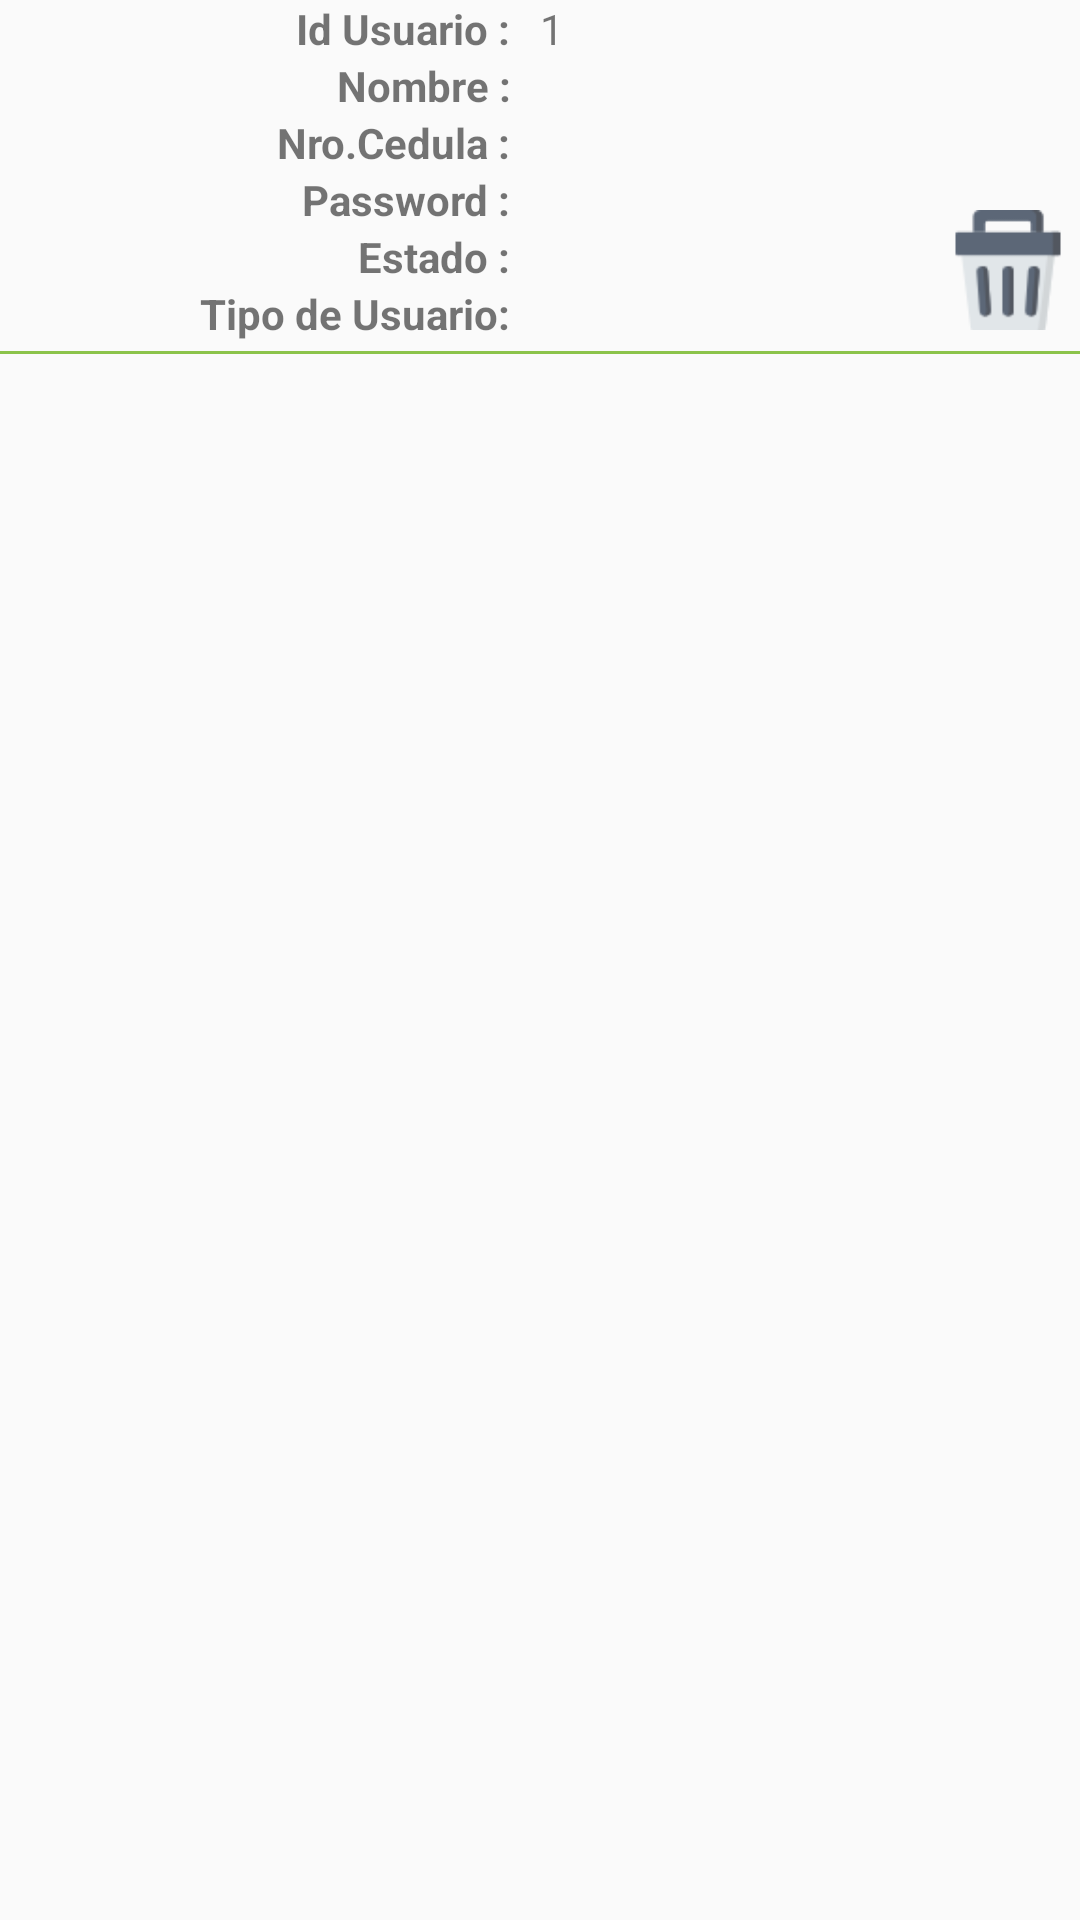

Icons on this 1080px x 1920px Android screen, each with the point to tap as (x=x, y=y):
borrar: (x=1008, y=270)
